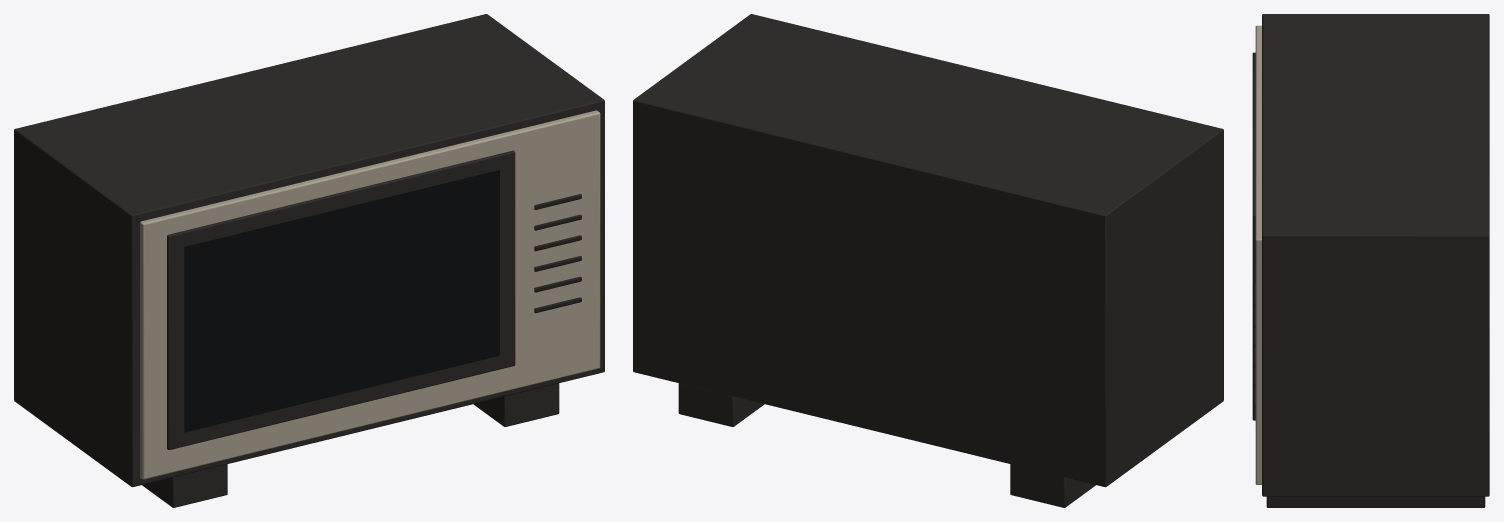
The model's file is SM_F_TV_Wide.fbx.
The picture shows the model from 3 angles, left to right: view 1: azimuth 30°, elevation 25°; view 2: azimuth 150°, elevation 25°; view 3: azimuth 270°, elevation 25°; orthographic projection. The views are drawn at different scales.
Visible parts, largest first — view 1: SM_F_TV_Wide__Body, SM_F_TV_Wide__Screen; view 2: SM_F_TV_Wide__Body; view 3: SM_F_TV_Wide__Body.
Boxes of the visible parts, box(x1,y1,x2,y2) form: SM_F_TV_Wide__Body: box(14, 14, 604, 507); SM_F_TV_Wide__Screen: box(184, 170, 499, 432); SM_F_TV_Wide__Body: box(633, 14, 1223, 507); SM_F_TV_Wide__Body: box(1252, 14, 1489, 507).
Bounding box in the file's own units: 1.2 × 0.74 × 0.5425.
